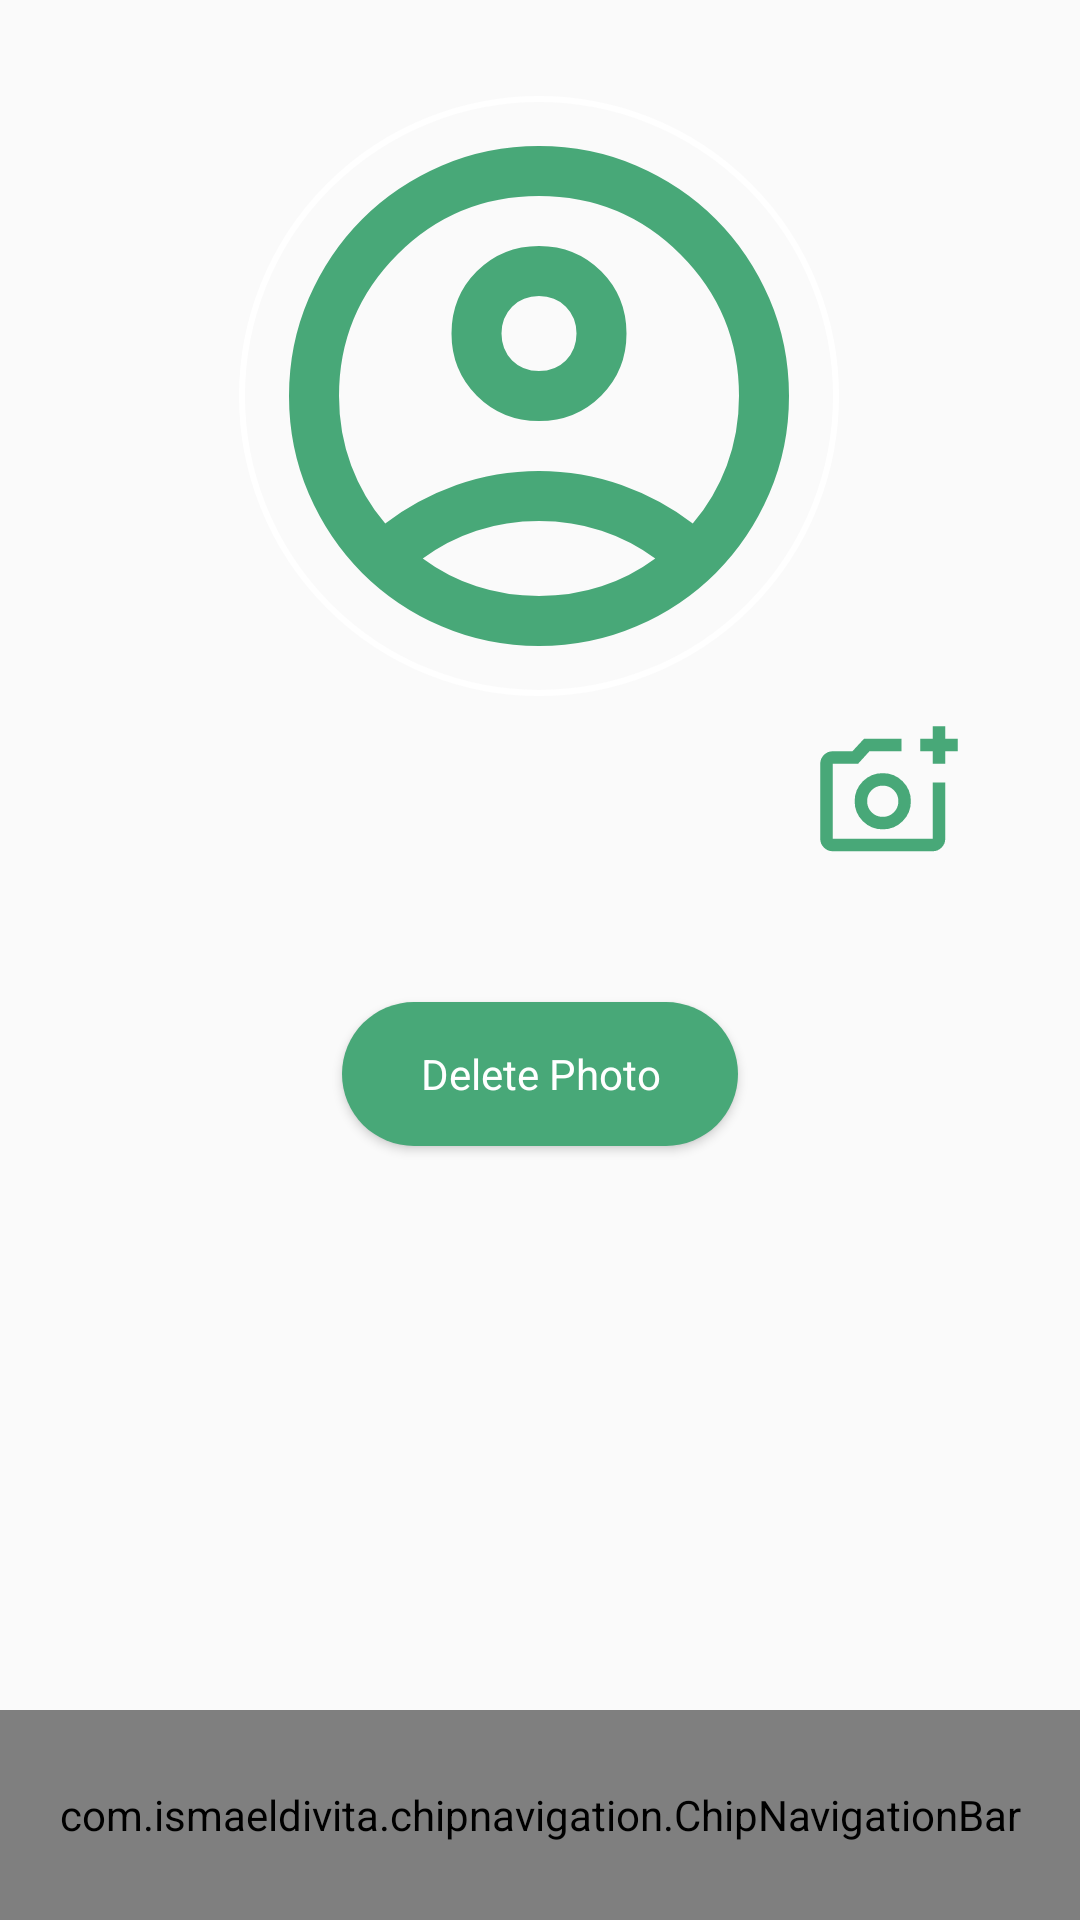

Icons on this 1080w x 1920h Android screen, each with its box as Rect(x1, y1, x2, y2):
add photo: Rect(820, 726, 958, 852)
